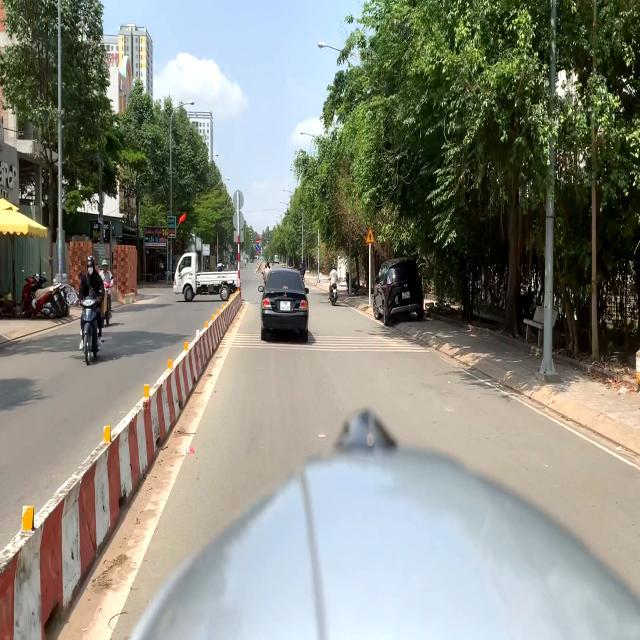Cam di nguoc chieu: (256, 238, 259, 244)
Giao nhau voi duong khong uu tien: (365, 228, 375, 244)
Vong chuong ngai vat sang phai: (256, 244, 260, 250)
